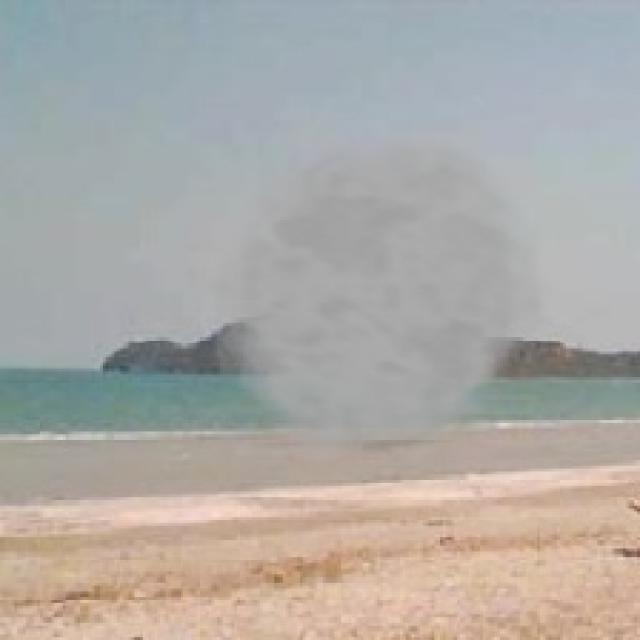smoke: (191, 117, 560, 466)
